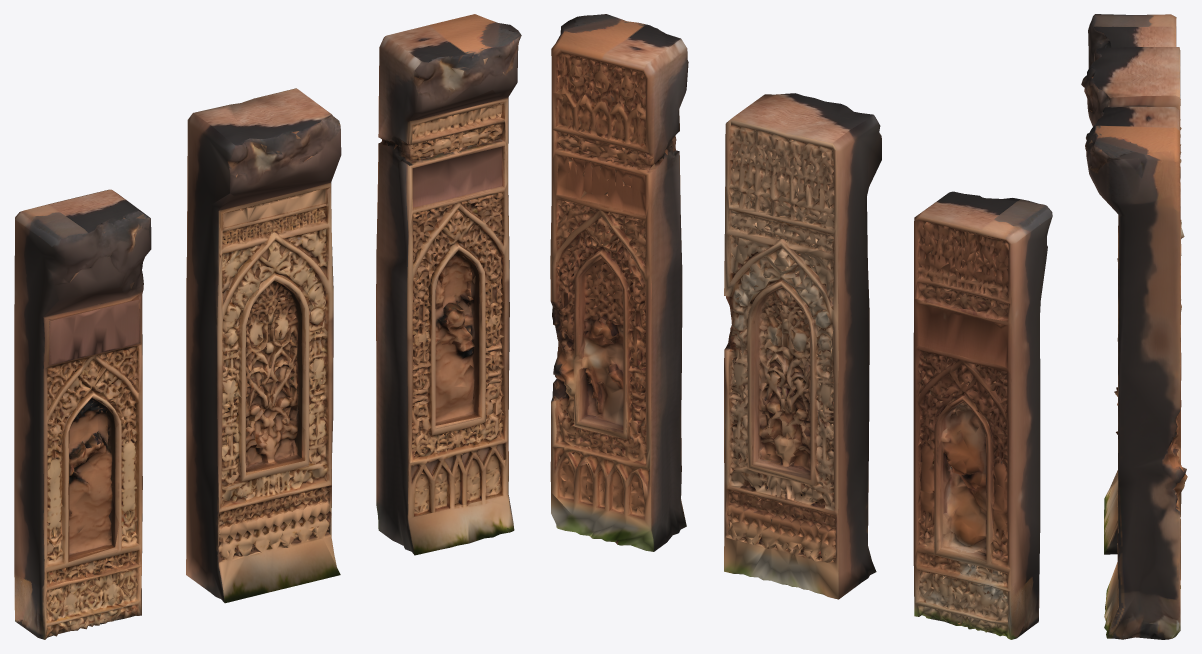
The model's file is ahlat.glb.
3 renders of one model, left to right at view 1: azimuth 30°, elevation 25°; view 2: azimuth 150°, elevation 25°; view 3: azimuth 270°, elevation 25°, orthographic.
Visible parts, largest first — view 1: Meshy_AI_ahlat_selçuklu_meyda_0225163557_texture; view 2: Meshy_AI_ahlat_selçuklu_meyda_0225163557_texture; view 3: Meshy_AI_ahlat_selçuklu_meyda_0225163557_texture.
Boxes of the visible parts, left/top/right/bottom form: Meshy_AI_ahlat_selçuklu_meyda_0225163557_texture: left=14, top=14, right=521, bottom=639; Meshy_AI_ahlat_selçuklu_meyda_0225163557_texture: left=550, top=14, right=1052, bottom=639; Meshy_AI_ahlat_selçuklu_meyda_0225163557_texture: left=1081, top=14, right=1187, bottom=639.
Bounding box in the file's own units: 2 × 1.97 × 0.3899.
Materials: 1 (1 with a texture image).
